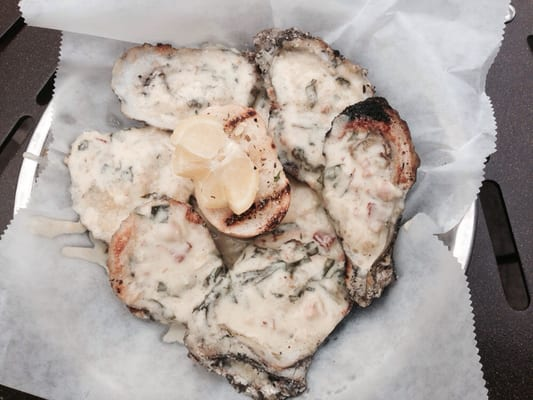sandwich: (479, 180, 532, 312)
